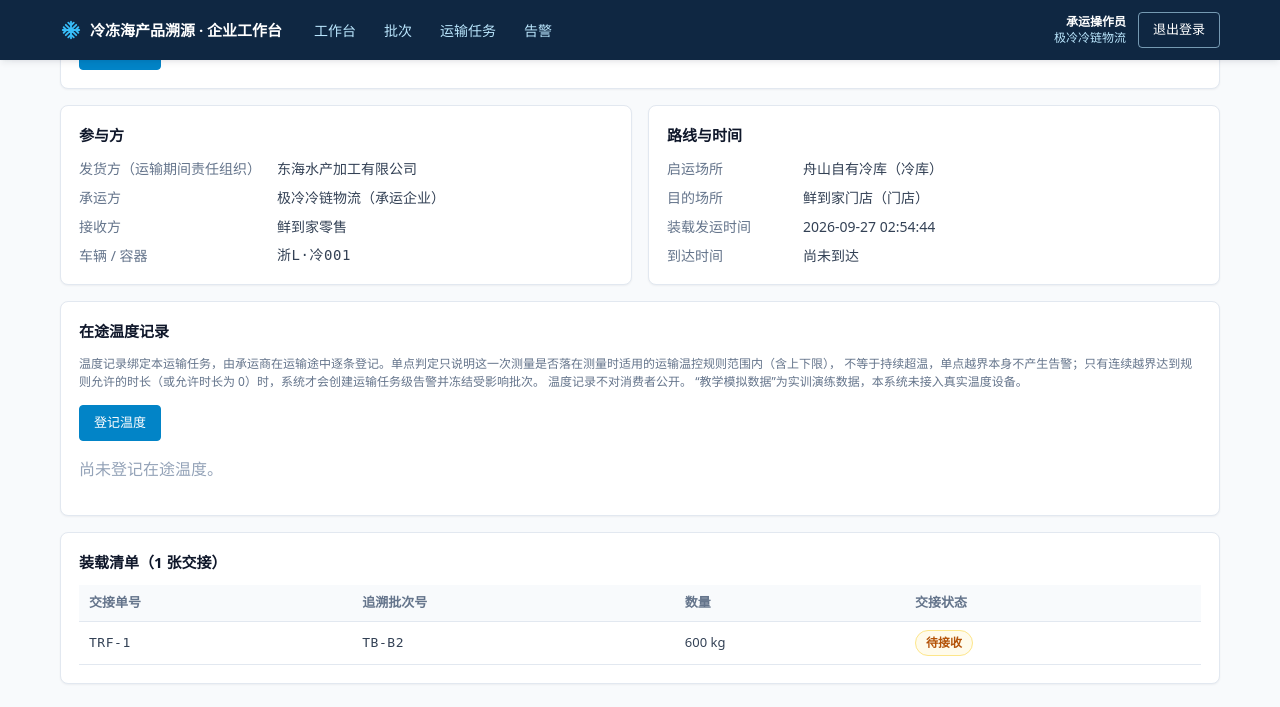
it: PB3 sustained-excursion alert on the shipment page › shows the alert card and a flash when the reading completes a sustained excursion
This screenshot has width=1280, height=707.
(page scrolled)
Step 1. Click the button with test id "temperature-open" → point(120, 422), box [79,404,161,440]
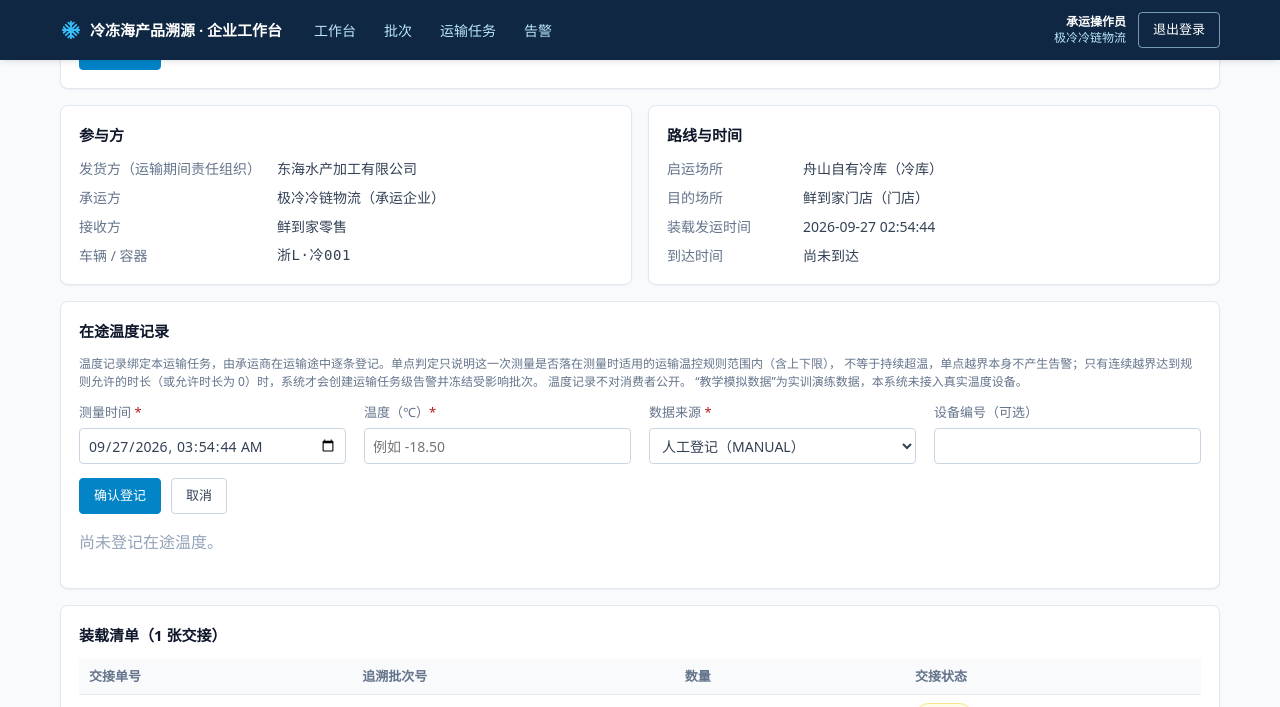
Step 2. Type "-11" into the field with test id "field-temperature-value" → point(498, 446), box [364,428,631,464]
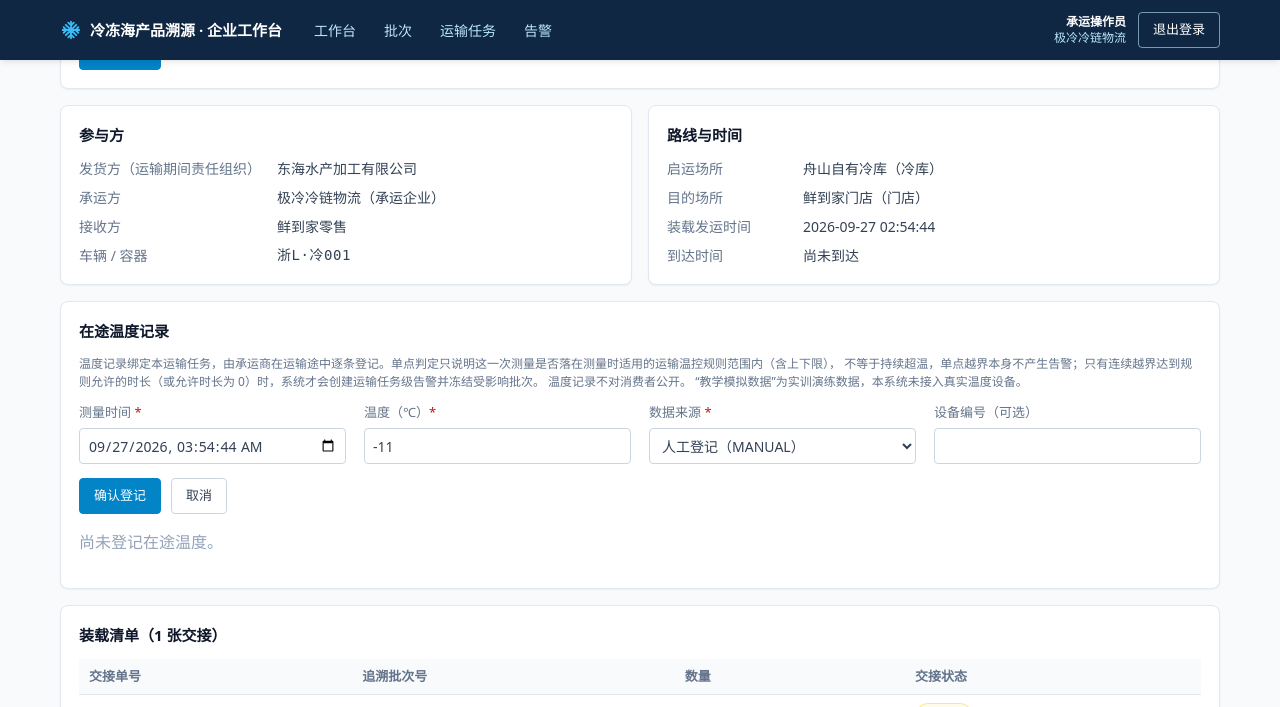
Step 3. Submit the form with test id "temperature-form", box [79,402,1201,514]
(page scrolled)
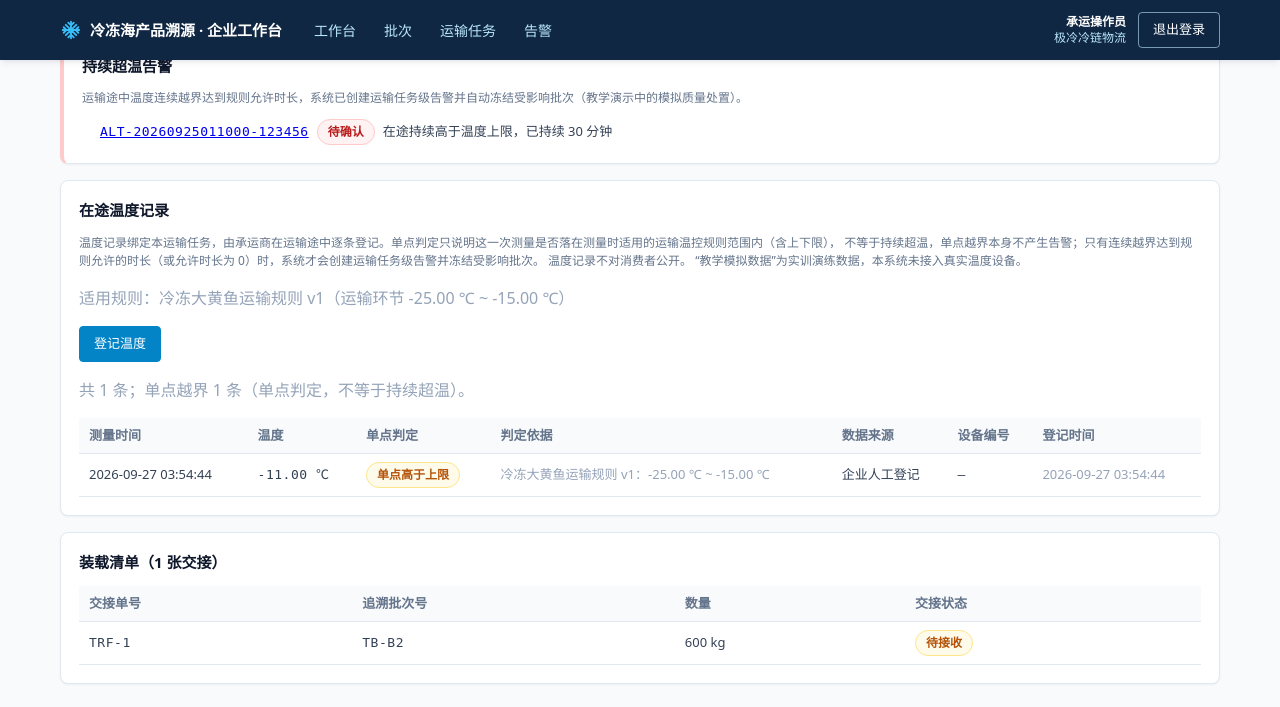
Expected: the element with test id "shipment-alerts" is shown, [60,36,1220,164]
Expected: the text with test id "temperature-evaluation" reads "单点高于上限", [377,466,449,483]
